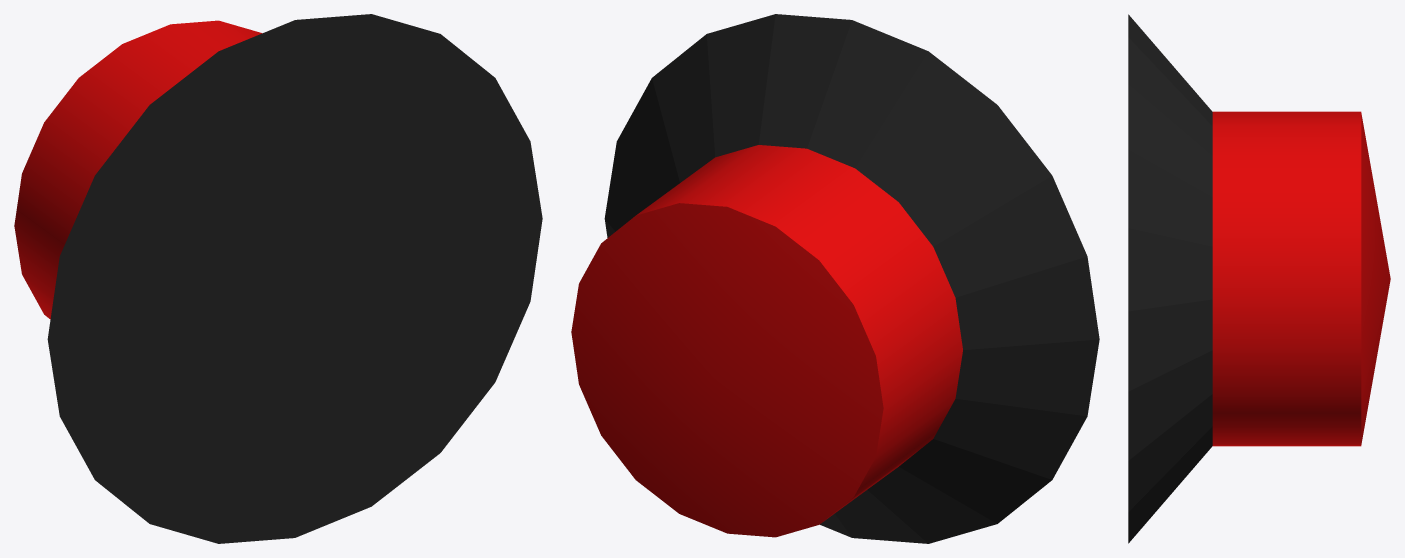
Rendered from Button.fbx.
The picture shows the model from 3 angles, left to right: view 1: azimuth 30°, elevation 25°; view 2: azimuth 150°, elevation 25°; view 3: azimuth 270°, elevation 25°; orthographic projection. The views are drawn at different scales.
Visible parts, largest first — view 1: pCylinder2; view 2: pCylinder2; view 3: pCylinder2.
Boxes of the visible parts, left/top/right/bottom form: pCylinder2: left=14, top=14, right=542, bottom=543; pCylinder2: left=571, top=14, right=1099, bottom=543; pCylinder2: left=1128, top=14, right=1390, bottom=543.
Size of the model in its own units: 1.96 by 1.96 by 0.9612.
